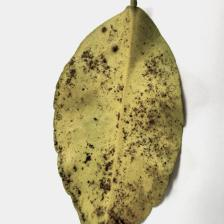canker: (87, 69, 160, 201)
